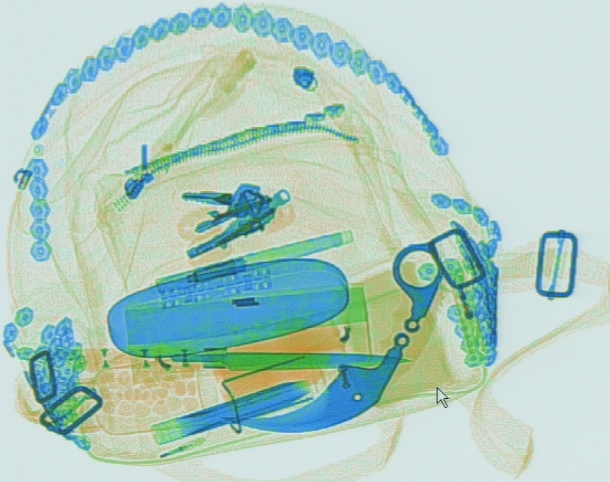knife: (214, 238, 454, 436), (50, 340, 414, 376)
lighter: (439, 255, 488, 357)
